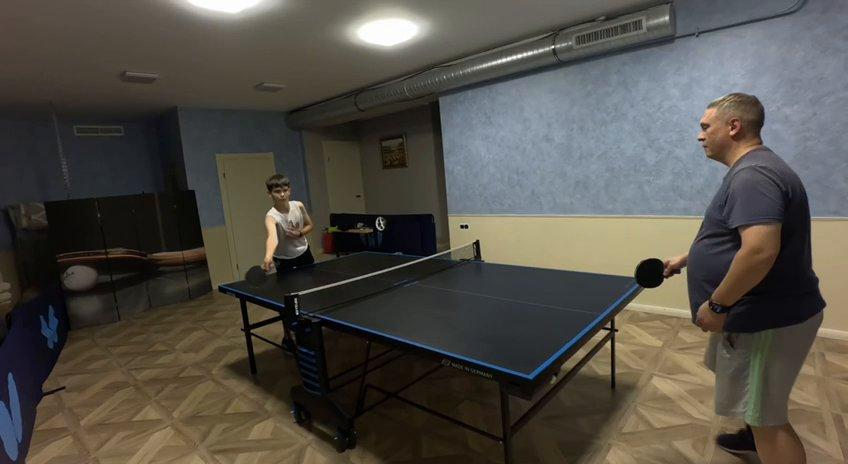Net: (283, 241, 480, 321)
Player1: (261, 174, 312, 273)
Player2: (664, 93, 826, 463)
Table: (220, 253, 640, 379)
